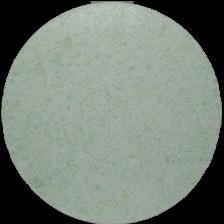68788-6761: (0, 0, 224, 224)
